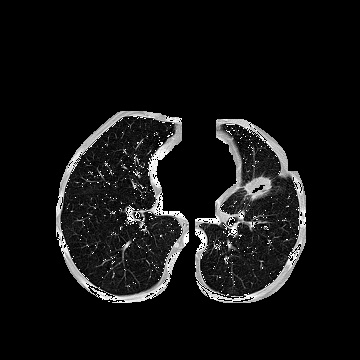PN: (246, 175, 268, 197)
